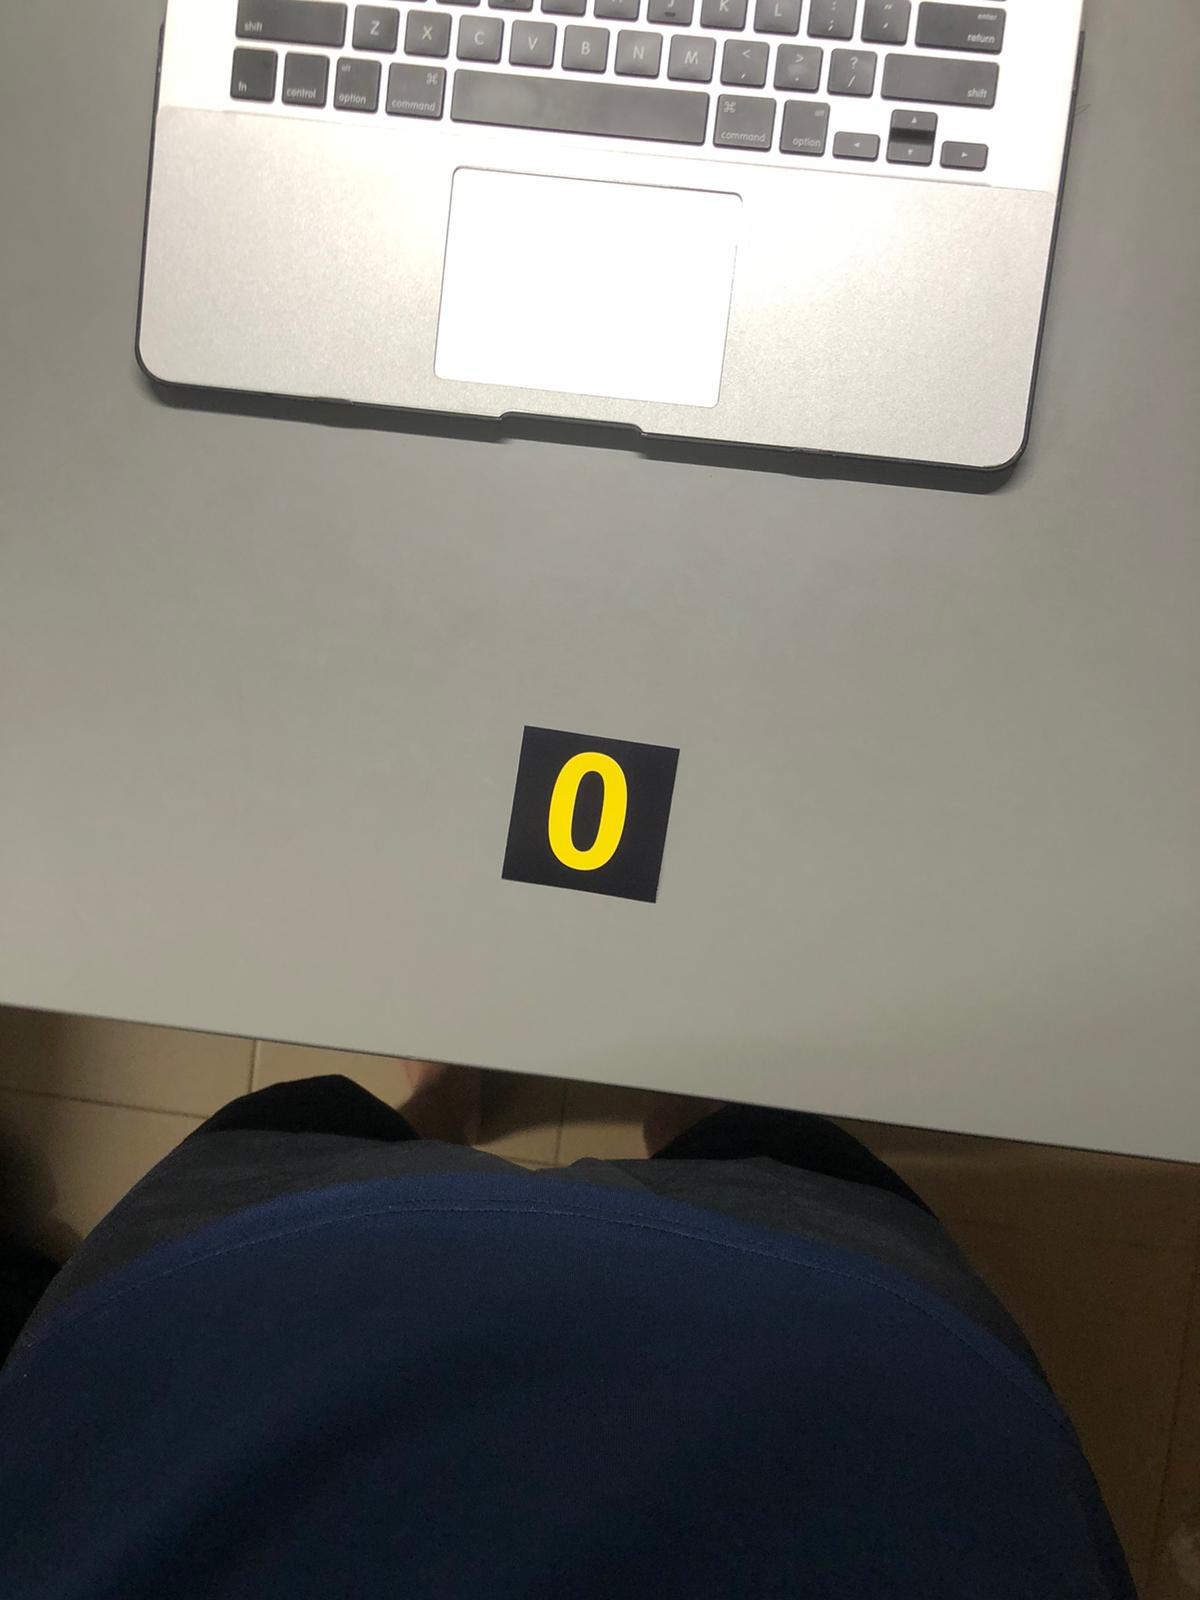Number 0: (522, 740, 645, 891)
